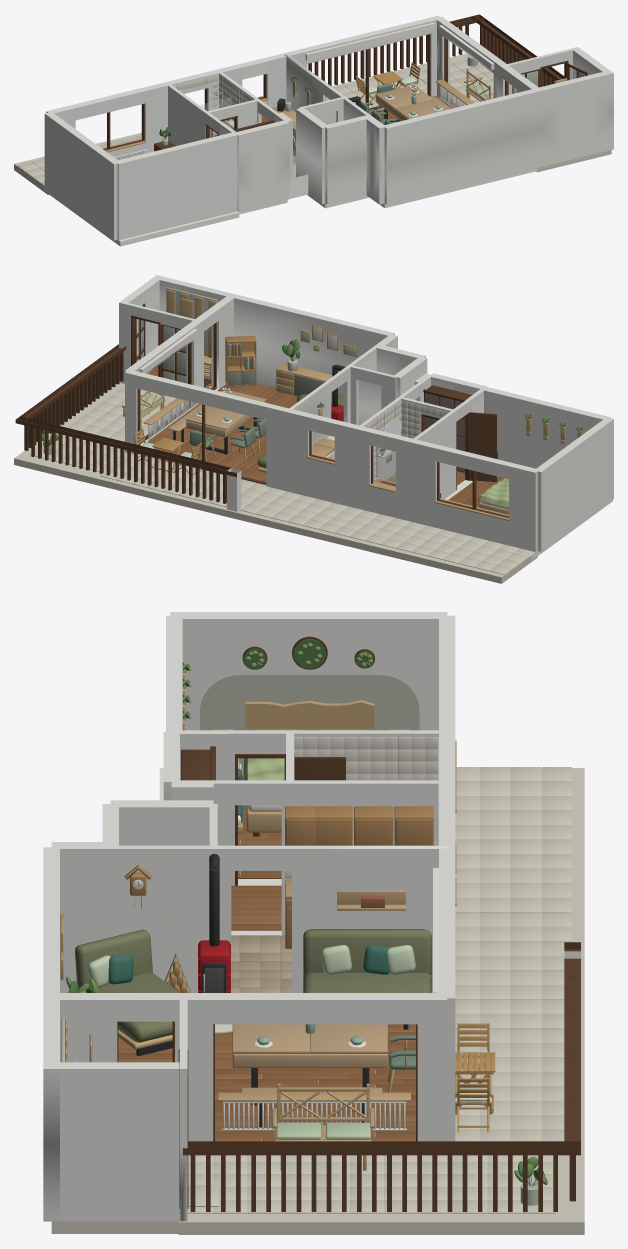
File: wohnung.glb
3 renders of one model, top to bottom at view 1: azimuth 30°, elevation 25°; view 2: azimuth 150°, elevation 25°; view 3: azimuth 270°, elevation 25°, orthographic. The views are drawn at different scales.
Parts seen in each view (by area): view 1: wall-08_Gaestegrundriss_Waende_Weiss, wall-14_Gaestegrundriss_Waende_Weiss, wall-15_Gaestegrundriss_Waende_Weiss, wall-22_Gaestegrundriss_Waende_Weiss, Fenster_Dunkles_Holz, wall-03_Gaestegrundriss_Waende_Weiss, Ofen_Bodenplatte.001, wall-07_Gaestegrundriss_Waende_Weiss, wall-09_Gaestegrundriss_Waende_Weiss, wall-16_Gaestegrundriss_Waende_Weiss, Putz_Warmweiss, wall-06_Gaestegrundriss_Waende_Weiss (+24 smaller); view 2: Ofen_Bodenplatte.001, Fenster_Dunkles_Holz, wall-09_Gaestegrundriss_Waende_Weiss, wall-08_Gaestegrundriss_Waende_Weiss, wall-15_Gaestegrundriss_Waende_Weiss, wall-14_Gaestegrundriss_Waende_Weiss, wall-18_Gaestegrundriss_Waende_Weiss, wall-16_Gaestegrundriss_Waende_Weiss, wall-12_Gaestegrundriss_Waende_Weiss, Eiche_Hell, wall-17_Gaestegrundriss_Waende_Weiss, wall-05_Gaestegrundriss_Waende_Weiss (+37 smaller); view 3: Ofen_Bodenplatte.001, wall-17_Gaestegrundriss_Waende_Weiss, wall-23_Gaestegrundriss_Waende_Weiss, Fenster_Dunkles_Holz, wall-15_Gaestegrundriss_Waende_Weiss, wall-11_Gaestegrundriss_Waende_Weiss, wall-04_Gaestegrundriss_Waende_Weiss, Sofa_Oliv_Velours, Eiche_Hell, wall-15_Wand_Graugruen, Kueche_Eiche_Honig, Tisch_Eiche_Laengs (+37 smaller).
Part boxes in pixels (<box>): wall-08_Gaestegrundriss_Waende_Weiss: <box>383,88,539,204</box>; wall-14_Gaestegrundriss_Waende_Weiss: <box>117,132,237,240</box>; wall-15_Gaestegrundriss_Waende_Weiss: <box>44,112,120,240</box>; wall-22_Gaestegrundriss_Waende_Weiss: <box>536,70,613,167</box>; Fenster_Dunkles_Holz: <box>154,14,564,151</box>; wall-03_Gaestegrundriss_Waende_Weiss: <box>235,120,289,211</box>; Ofen_Bodenplatte.001: <box>14,53,611,194</box>; wall-07_Gaestegrundriss_Waende_Weiss: <box>324,115,371,204</box>; wall-09_Gaestegrundriss_Waende_Weiss: <box>46,82,167,159</box>; wall-16_Gaestegrundriss_Waende_Weiss: <box>267,15,439,109</box>; Putz_Warmweiss: <box>42,86,537,246</box>; wall-06_Gaestegrundriss_Waende_Weiss: <box>296,107,328,204</box>; Ofen_Bodenplatte.001: <box>14,383,537,583</box>; Fenster_Dunkles_Holz: <box>15,344,497,503</box>; wall-09_Gaestegrundriss_Waende_Weiss: <box>410,439,537,552</box>; wall-08_Gaestegrundriss_Waende_Weiss: <box>230,294,394,394</box>; wall-15_Gaestegrundriss_Waende_Weiss: <box>534,417,613,551</box>; wall-14_Gaestegrundriss_Waende_Weiss: <box>482,387,611,468</box>; wall-18_Gaestegrundriss_Waende_Weiss: <box>284,408,357,507</box>; wall-16_Gaestegrundriss_Waende_Weiss: <box>125,371,312,490</box>; wall-12_Gaestegrundriss_Waende_Weiss: <box>341,421,416,521</box>; Eiche_Hell: <box>121,290,508,514</box>; wall-17_Gaestegrundriss_Waende_Weiss: <box>125,296,233,404</box>; wall-05_Gaestegrundriss_Waende_Weiss: <box>350,365,397,425</box>; Ofen_Bodenplatte.001: <box>51,767,584,1234</box>; wall-17_Gaestegrundriss_Waende_Weiss: <box>60,993,447,1141</box>; wall-23_Gaestegrundriss_Waende_Weiss: <box>60,1062,179,1221</box>; Fenster_Dunkles_Holz: <box>181,746,580,1211</box>; wall-15_Gaestegrundriss_Waende_Weiss: <box>170,612,447,730</box>; wall-11_Gaestegrundriss_Waende_Weiss: <box>213,845,447,992</box>; wall-04_Gaestegrundriss_Waende_Weiss: <box>110,845,213,992</box>; Sofa_Oliv_Velours: <box>75,929,431,1042</box>; Eiche_Hell: <box>65,700,410,1170</box>; wall-15_Wand_Graugruen: <box>200,675,419,770</box>; Kueche_Eiche_Honig: <box>124,806,433,992</box>; Tisch_Eiche_Laengs: <box>232,1024,387,1092</box>.
Bounding box in the file's own units: 15.78 × 2.65 × 7.88.
